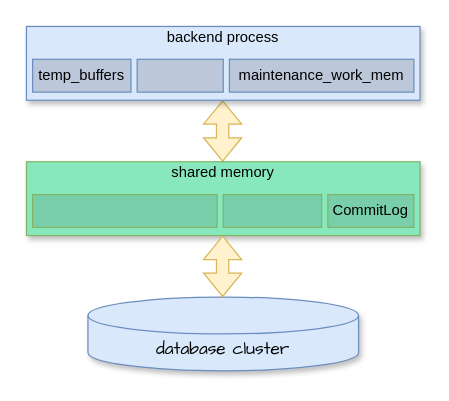
This 449x401 diagram has some shape labels left out. Here are the shapes that lost their labels. From the top down, the centre of each, then its label:
At (x=179, y=75): "work_mem".
At (x=124, y=210): "shared buffer pool".
At (x=272, y=210): "WAL buffer".
